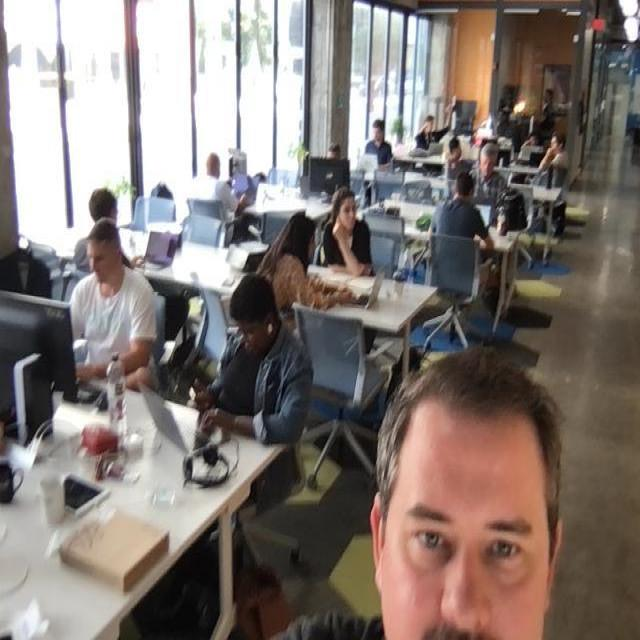face: (368, 380, 562, 639), (230, 274, 278, 358), (88, 216, 123, 288), (334, 187, 359, 232), (479, 144, 502, 180), (371, 117, 386, 144), (550, 130, 566, 154), (424, 116, 434, 133)
